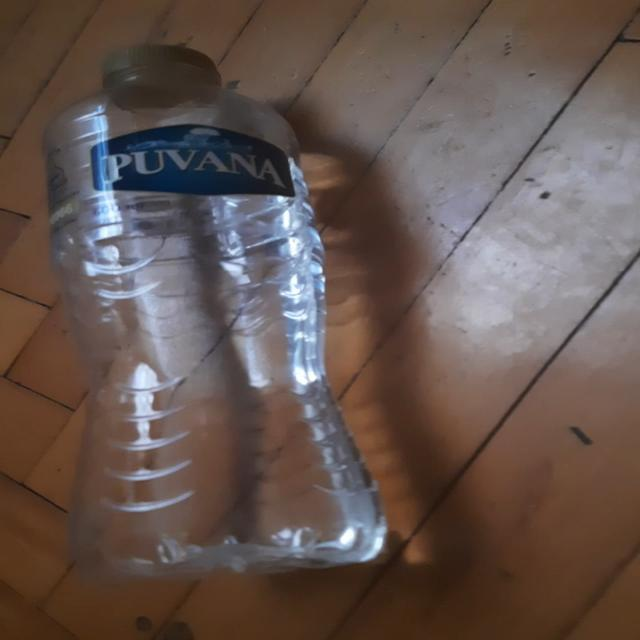Plastic: (43, 44, 389, 589)
